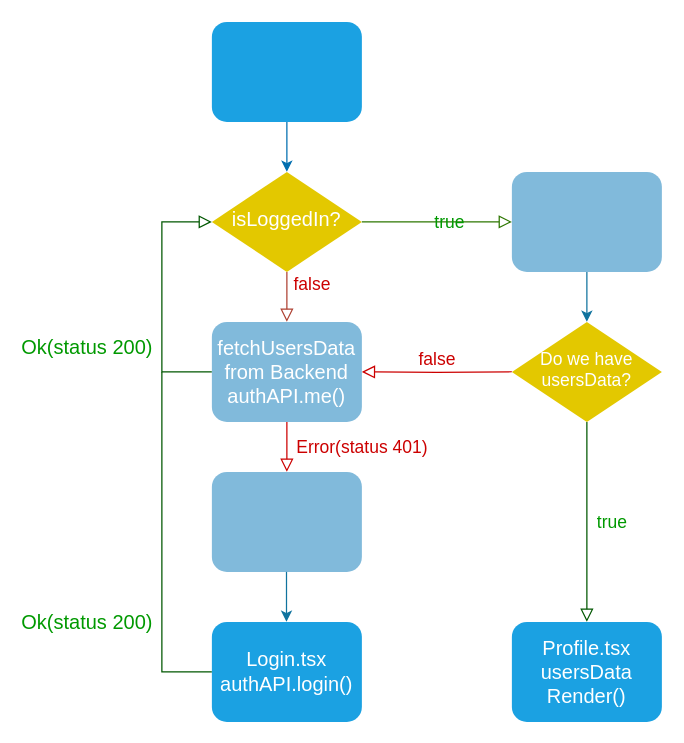
Image size: 684x743. Some labels were removed from this diagram. Here are the shapes that lost their labels. From the top down, the centre of each, then its label:
(286,71): App.tsx path={'/'}
(586,221): Redirect to path={'/profile'}
(286,521): Redirect to path={'auth/login'}
